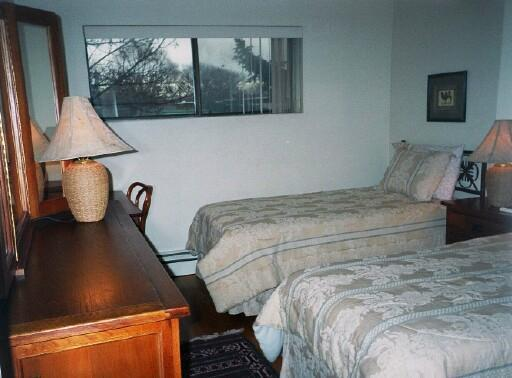Cama: (196, 139, 466, 301), (262, 228, 511, 374)
